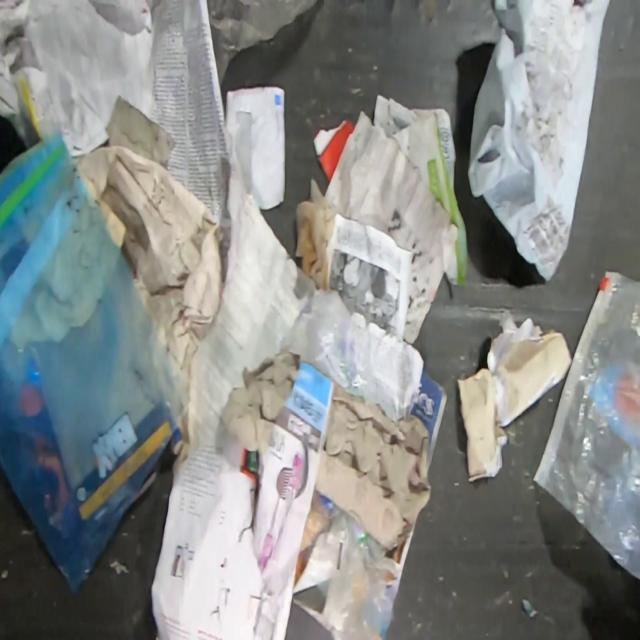soft_plastic: (0, 128, 192, 596), (466, 0, 610, 282), (532, 269, 640, 581), (299, 510, 395, 640), (207, 0, 318, 90), (309, 321, 370, 398)
